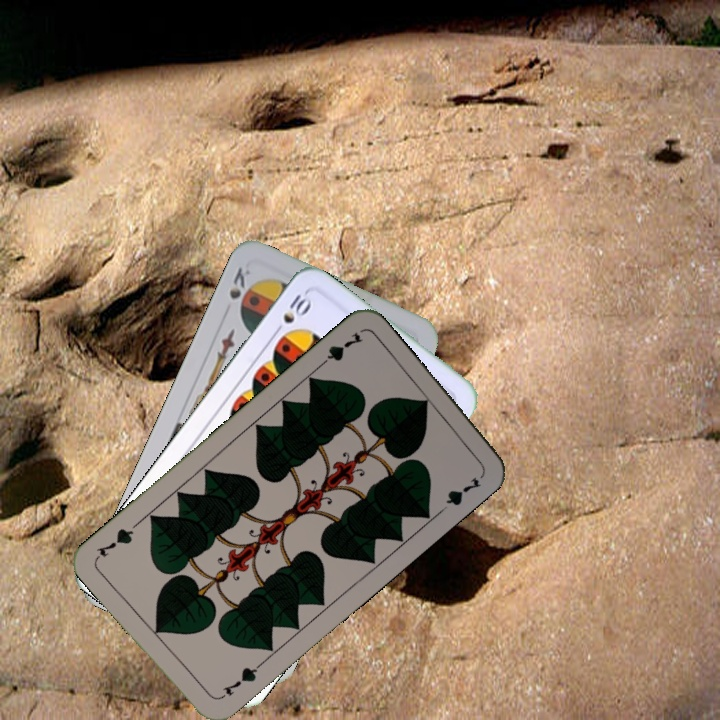G7: (313, 328, 366, 371), (215, 659, 264, 703)
S10: (269, 288, 315, 338)
SK: (225, 263, 253, 302)
